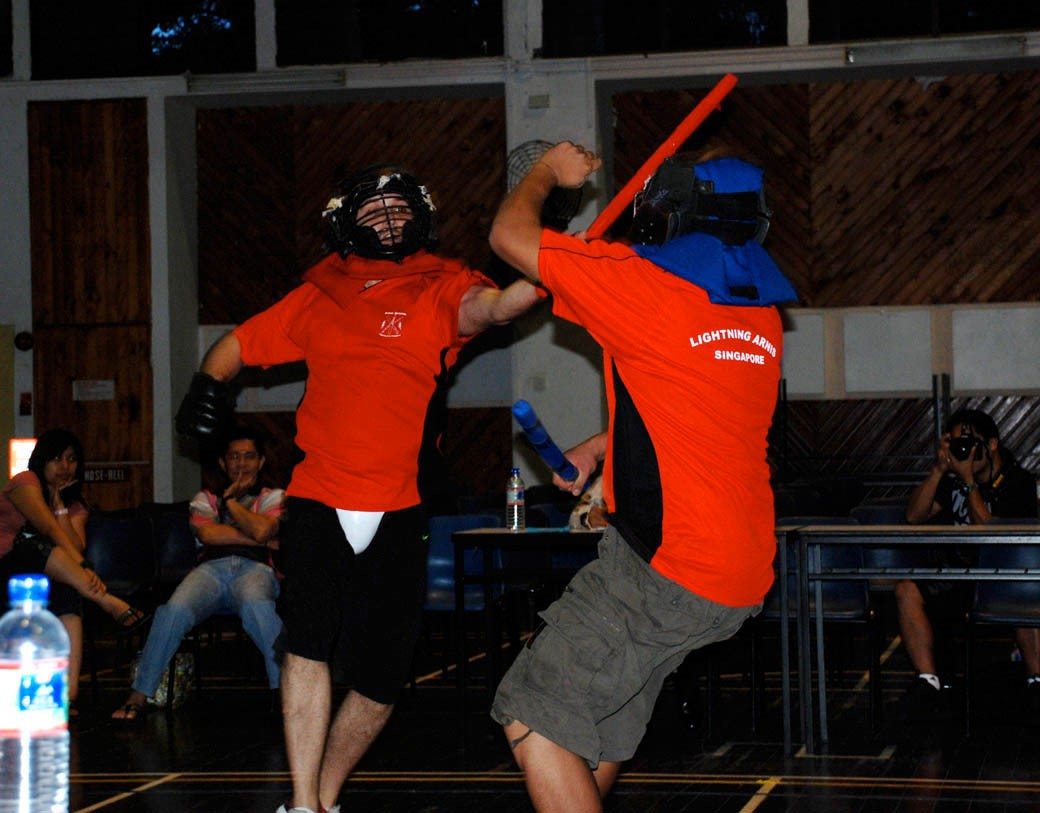baston_e: (584, 90, 733, 230)
baston_v: (722, 65, 741, 86)
